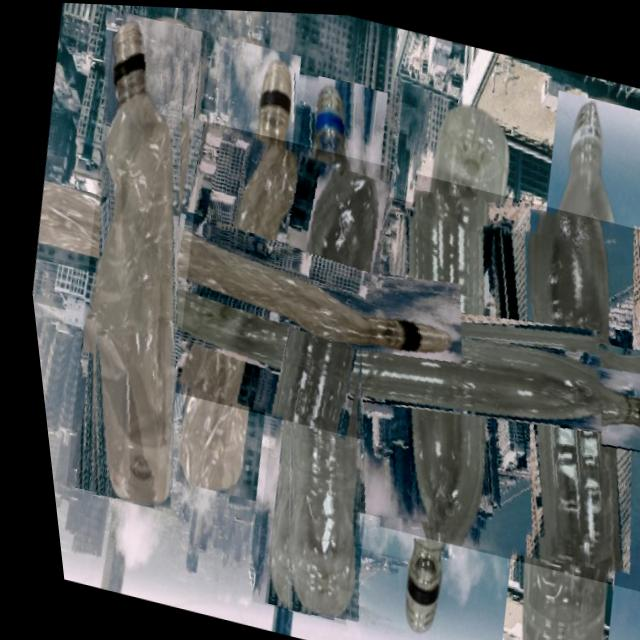Transparent Plastic Bottle: (228, 168, 640, 566), (190, 63, 444, 625), (334, 165, 640, 590), (50, 93, 412, 438), (11, 3, 253, 513)
